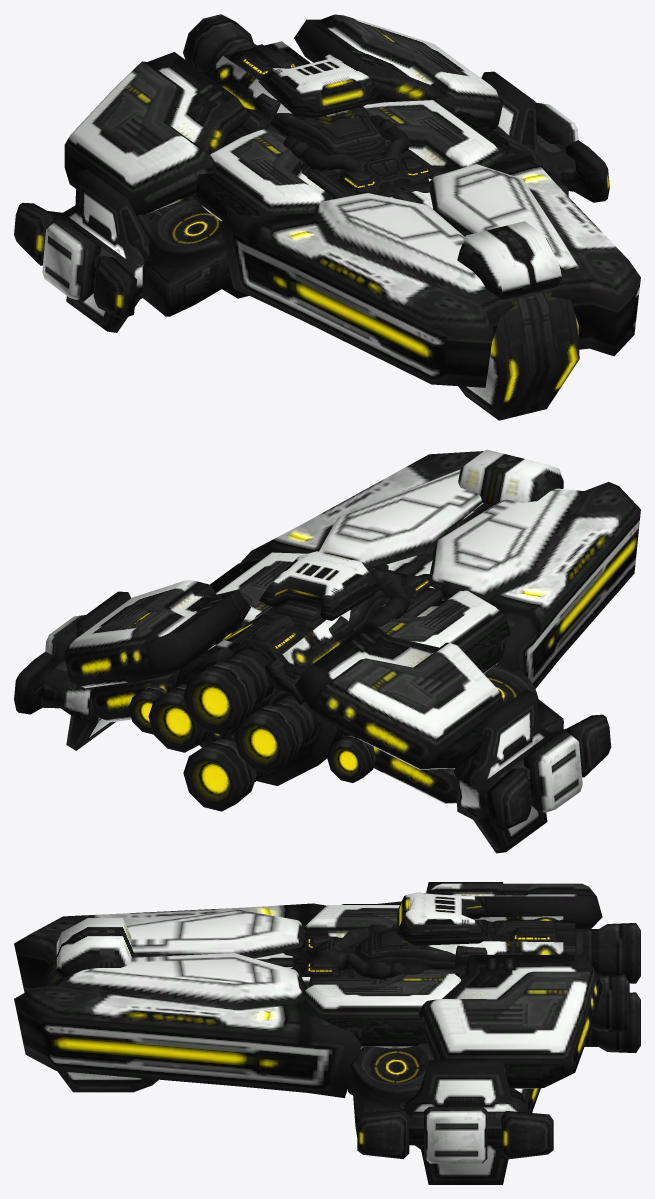
File: UED_Shieldwall_V4.glb
The picture shows the model from 3 angles, top to bottom: view 1: azimuth 30°, elevation 25°; view 2: azimuth 150°, elevation 25°; view 3: azimuth 270°, elevation 25°; orthographic projection. The views are drawn at different scales.
Visible parts, largest first — view 1: Unit_Terran_Battlecruiser_Main.001, Unit_Terran_Battlecruiser_Main; view 2: Unit_Terran_Battlecruiser_Main.001, Unit_Terran_Battlecruiser_Main; view 3: Unit_Terran_Battlecruiser_Main.001, Unit_Terran_Battlecruiser_Main.
Part boxes in pixels (bbox=[...]): Unit_Terran_Battlecruiser_Main.001: bbox=[14, 14, 640, 420]; Unit_Terran_Battlecruiser_Main: bbox=[136, 44, 568, 316]; Unit_Terran_Battlecruiser_Main.001: bbox=[14, 449, 640, 853]; Unit_Terran_Battlecruiser_Main: bbox=[191, 563, 563, 732]; Unit_Terran_Battlecruiser_Main.001: bbox=[14, 882, 640, 1184]; Unit_Terran_Battlecruiser_Main: bbox=[283, 919, 575, 1137].
Bounding box in the file's own units: 3.46 × 1.35 × 4.07.
Materials: 2 (2 with a texture image).
